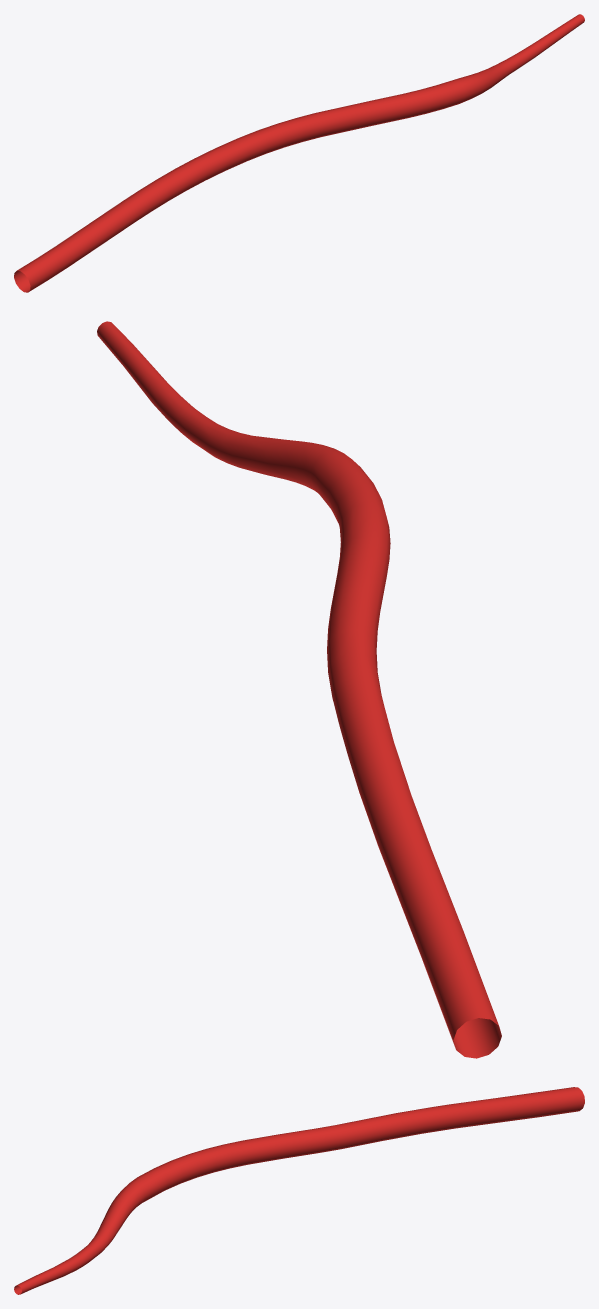
File: circulatorio-superior-labial-vein-r.glb
3 views of the same model, one above another, from view 1: azimuth 90°, elevation 25°; view 2: azimuth 150°, elevation 25°; view 3: azimuth 270°, elevation 25° (orthographic). The views are drawn at different scales.
Visible parts, largest first — view 1: Superior labial vein.r; view 2: Superior labial vein.r; view 3: Superior labial vein.r.
Part boxes in pixels (<box>): Superior labial vein.r: <box>14,14,584,292</box>; Superior labial vein.r: <box>97,321,501,1058</box>; Superior labial vein.r: <box>14,1087,584,1294</box>.
Bounding box in the file's own units: 0.0221 × 0.00346 × 0.023.
